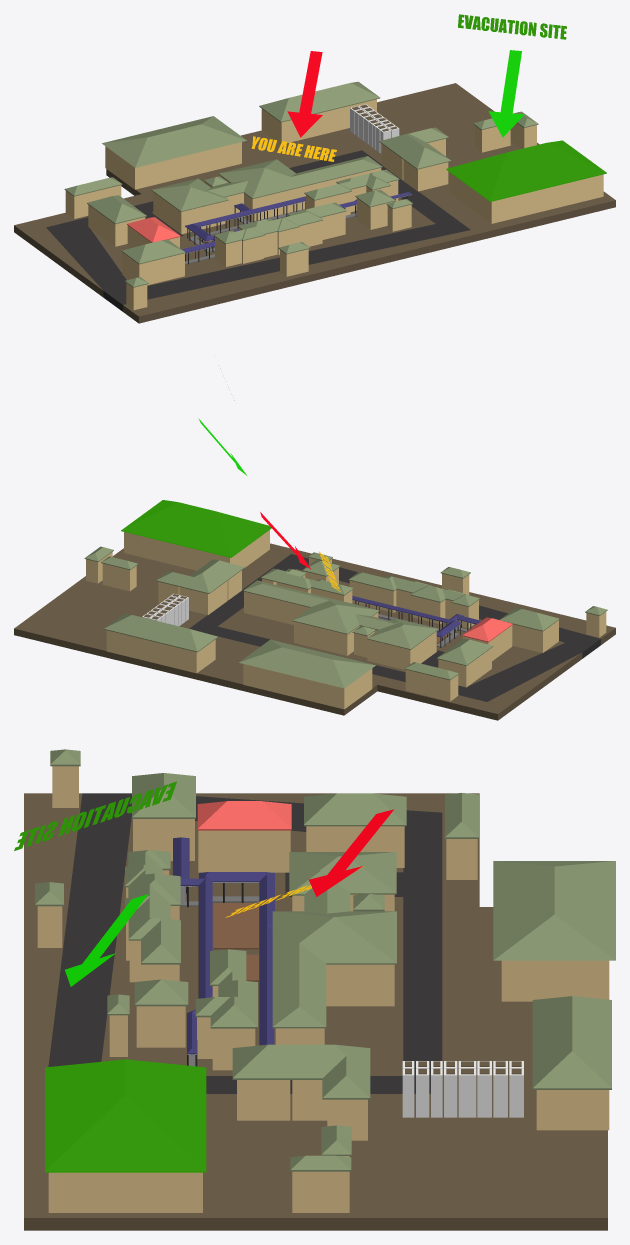
The model's file is MECHDEPARTMENT.glb.
The picture shows the model from 3 angles, top to bottom: view 1: azimuth 30°, elevation 25°; view 2: azimuth 150°, elevation 25°; view 3: azimuth 270°, elevation 25°; orthographic projection. The views are drawn at different scales.
Parts seen in each view (by area): view 1: Toposolid Grassland - 1200mm [352516], Toposolid Grassland - 1200mm [354195], Basic Roof Generic - 125mm [387914], Basic Roof Generic - 125mm [384035], Toposolid Grassland - 1200mm [354195].001, Basic Roof Generic - 125mm [378573], Basic Wall Generic - 200mm [355787], Basic Wall Generic - 200mm [355672], Basic Roof Generic - 125mm [385592], Basic Roof Generic - 125mm [385698], Basic Roof Generic - 125mm [387351], Basic Wall Generic - 200mm [355773] (+29 smaller); view 2: Toposolid Grassland - 1200mm [352516], Toposolid Grassland - 1200mm [354195], Basic Roof Generic - 125mm [387914], Basic Roof Generic - 125mm [384035], Basic Roof Generic - 125mm [378573], Basic Wall Generic - 200mm [355757], Basic Roof Generic - 125mm [385592], Basic Wall Generic - 200mm [355771], Basic Wall Generic - 200mm [355789], Basic Roof Generic - 125mm [385698], Basic Roof Generic - 125mm [387351], Basic Wall Generic - 200mm [357221] (+18 smaller); view 3: Toposolid Grassland - 1200mm [352516], Toposolid Grassland - 1200mm [354195], Basic Roof Generic - 125mm [387914], Basic Roof Generic - 125mm [384035], Basic Roof Generic - 125mm [378573], Toposolid Grassland - 1200mm [354195].001, Basic Roof Generic - 125mm [385592], Basic Wall Generic - 200mm [355788], Basic Roof Generic - 125mm [389243], Basic Roof Generic - 125mm [387351], Basic Roof Generic - 125mm [385698], Basic Wall Generic - 200mm [355719] (+31 smaller).
Part boxes in pixels (x1,y1,x2,y2): Toposolid Grassland - 1200mm [352516]: (14,83,615,323); Toposolid Grassland - 1200mm [354195]: (46,150,470,311); Basic Roof Generic - 125mm [387914]: (446,140,606,201); Basic Roof Generic - 125mm [384035]: (151,156,382,211); Toposolid Grassland - 1200mm [354195].001: (125,224,466,304); Basic Roof Generic - 125mm [378573]: (102,116,246,167); Basic Wall Generic - 200mm [355787]: (492,174,603,223); Basic Wall Generic - 200mm [355672]: (136,142,241,189); Basic Roof Generic - 125mm [385592]: (259,81,380,122); Basic Roof Generic - 125mm [385698]: (214,202,346,244); Basic Roof Generic - 125mm [387351]: (379,127,451,169); Basic Wall Generic - 200mm [355773]: (282,99,376,143); Toposolid Grassland - 1200mm [352516]: (14,543,615,720); Toposolid Grassland - 1200mm [354195]: (189,554,600,701); Basic Roof Generic - 125mm [387914]: (121,500,271,557); Basic Roof Generic - 125mm [384035]: (243,580,438,649); Basic Roof Generic - 125mm [378573]: (239,639,375,688); Basic Wall Generic - 200mm [355757]: (244,664,343,708); Basic Roof Generic - 125mm [385592]: (104,613,217,652); Basic Wall Generic - 200mm [355771]: (107,630,197,673); Basic Wall Generic - 200mm [355789]: (125,532,230,570); Basic Roof Generic - 125mm [385698]: (348,572,479,606); Basic Roof Generic - 125mm [387351]: (156,559,244,593); Basic Wall Generic - 200mm [357221]: (244,591,309,624); Toposolid Grassland - 1200mm [352516]: (24,793,607,1230); Toposolid Grassland - 1200mm [354195]: (48,793,442,1093); Basic Roof Generic - 125mm [387914]: (45,1059,206,1172); Basic Roof Generic - 125mm [384035]: (272,852,396,1028); Basic Roof Generic - 125mm [378573]: (493,861,615,960); Toposolid Grassland - 1200mm [354195].001: (48,794,131,1066); Basic Roof Generic - 125mm [385592]: (532,996,611,1089); Basic Wall Generic - 200mm [355788]: (51,1172,202,1212); Basic Roof Generic - 125mm [389243]: (173,837,274,1054); Basic Roof Generic - 125mm [387351]: (232,1044,370,1099); Basic Roof Generic - 125mm [385698]: (125,850,180,964); Basic Wall Generic - 200mm [355719]: (504,960,609,1001).
Bounding box in the file's own units: 86 × 33.38 × 51.53.
